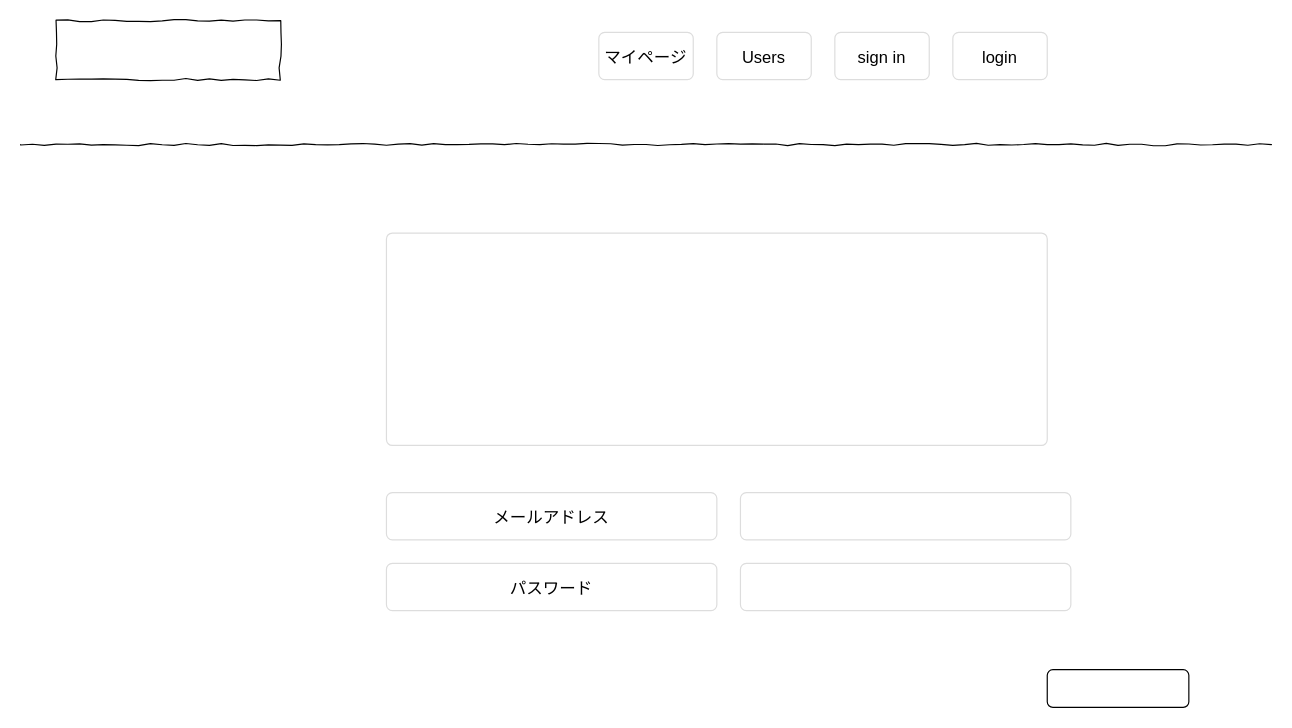
This 1292x728 diagram has some shape labels left out. The centre of each missing label's shape, as x and y in pixels:
"LOGO" belongs at point 167,49.
"ログインする" belongs at point 1117,687.
"ログインページ" belongs at point 716,338.
